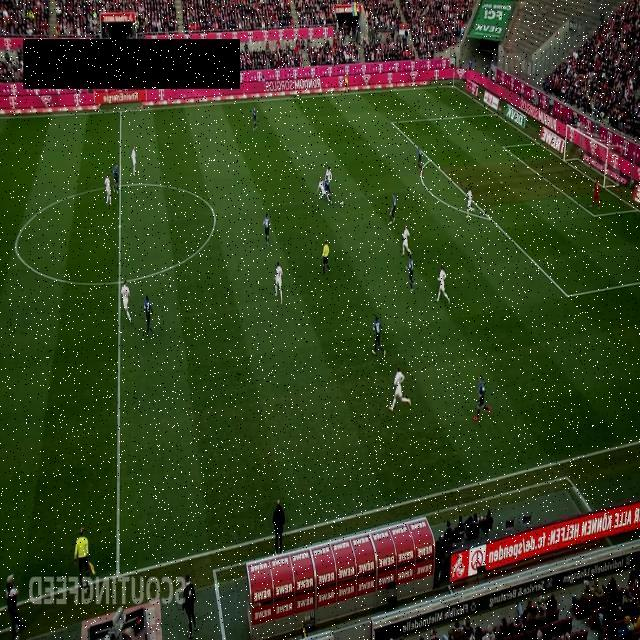Ball: (340, 199, 344, 207)
Corner: (450, 58, 459, 88)
GoalKeeper: (591, 178, 601, 209)
Referee: (74, 527, 96, 589), (321, 238, 331, 274), (343, 72, 350, 94)
TEAM 1: (388, 366, 412, 412), (434, 264, 450, 306), (121, 279, 133, 325), (274, 260, 284, 306), (401, 224, 412, 256), (316, 177, 330, 201), (325, 165, 333, 199), (104, 174, 112, 206), (130, 146, 138, 177), (466, 186, 472, 218)
TEAM 2: (474, 374, 492, 420), (371, 315, 387, 357), (143, 294, 155, 338), (388, 191, 397, 225), (406, 254, 414, 292), (262, 212, 270, 248), (416, 144, 424, 176), (112, 162, 119, 194), (324, 175, 332, 203), (251, 107, 258, 132)
